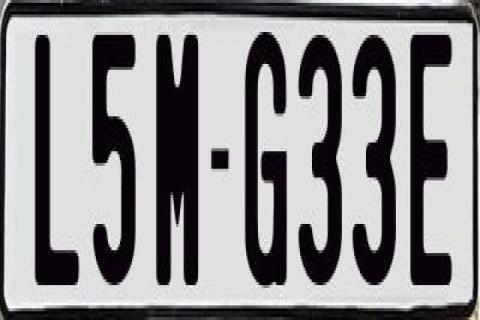0: (90, 29, 140, 297), (300, 26, 350, 291), (349, 29, 398, 288)
E: (408, 26, 454, 282)
G: (242, 26, 286, 288)
L: (35, 32, 83, 288)
M: (156, 29, 204, 291)
